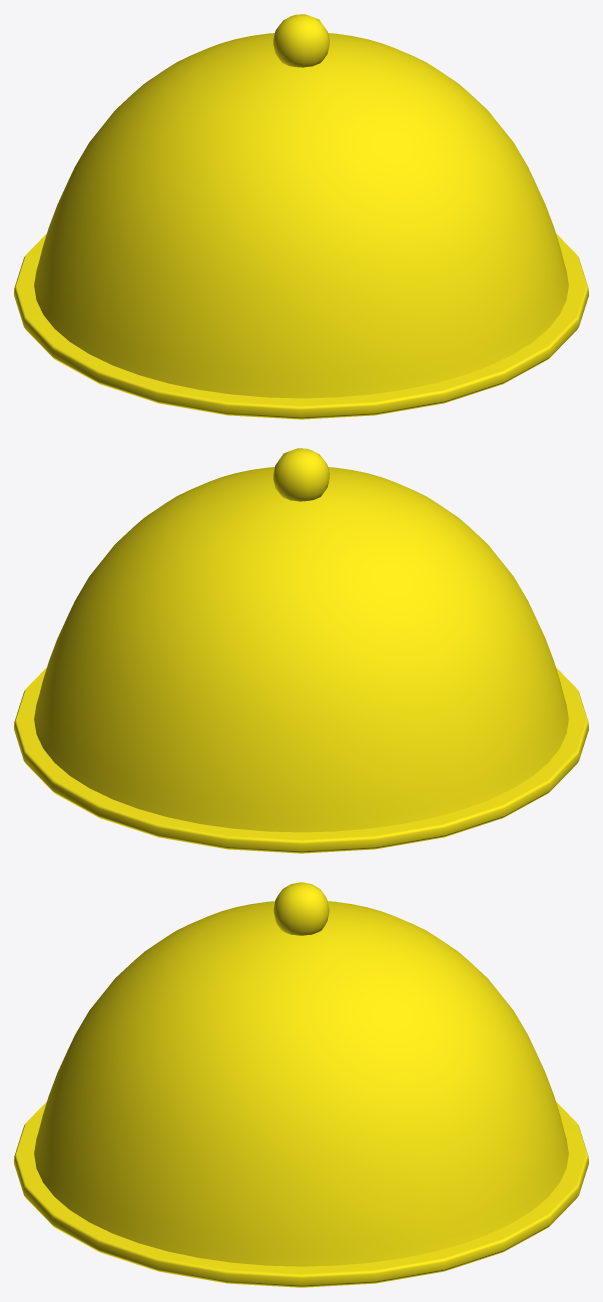
File: Store_20_Serving_tray_1.glb
3 renders of one model, top to bottom at view 1: azimuth 30°, elevation 25°; view 2: azimuth 150°, elevation 25°; view 3: azimuth 270°, elevation 25°, orthographic.
Visible parts, largest first — view 1: Store_20_Serving_tray_1; view 2: Store_20_Serving_tray_1; view 3: Store_20_Serving_tray_1.
Boxes of the visible parts, bbox=[...] form: Store_20_Serving_tray_1: bbox=[14, 14, 588, 419]; Store_20_Serving_tray_1: bbox=[14, 448, 588, 853]; Store_20_Serving_tray_1: bbox=[14, 882, 588, 1287].
Size of the model in its own units: 0.548 by 0.3242 by 0.548.
1 material, 1 textured.
